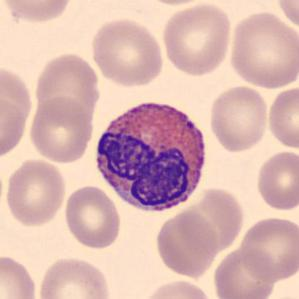Eosinophil: (89, 92, 212, 218)
RBC: (227, 9, 298, 91), (160, 1, 234, 77), (88, 16, 165, 89), (32, 49, 102, 124), (26, 94, 96, 165), (153, 210, 219, 280), (4, 156, 68, 228), (207, 83, 270, 154), (179, 189, 243, 255), (238, 214, 298, 284), (62, 183, 123, 250), (210, 245, 278, 299), (35, 254, 113, 299), (253, 148, 298, 213), (0, 65, 33, 132), (266, 85, 298, 150), (0, 93, 29, 162), (0, 252, 40, 299), (0, 0, 75, 25), (140, 277, 215, 299), (273, 0, 298, 31), (136, 0, 215, 7)
